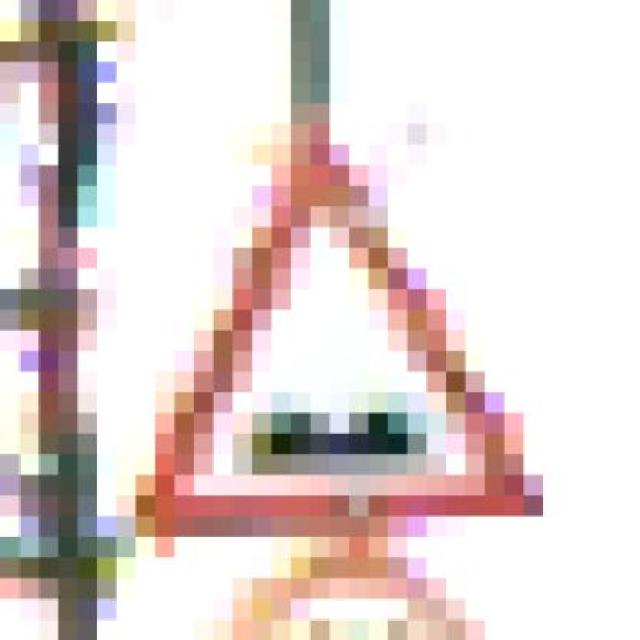Uneven Road: (116, 103, 544, 537)
